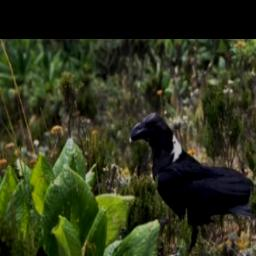Crow: (128, 110, 255, 254)
